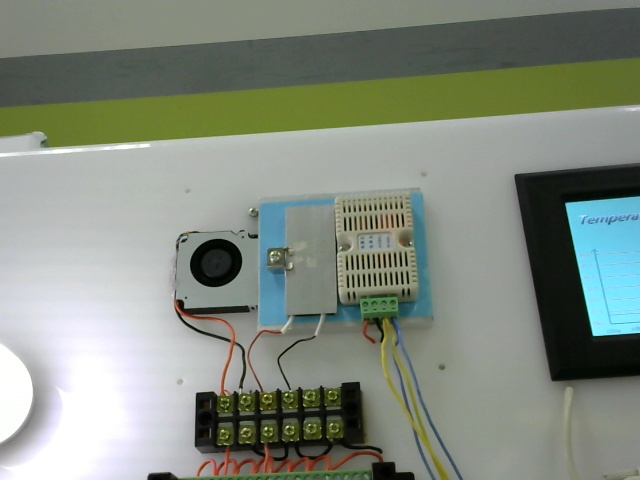fan: (170, 222, 261, 323)
heater: (285, 204, 333, 333)
termperature: (334, 190, 428, 315)
